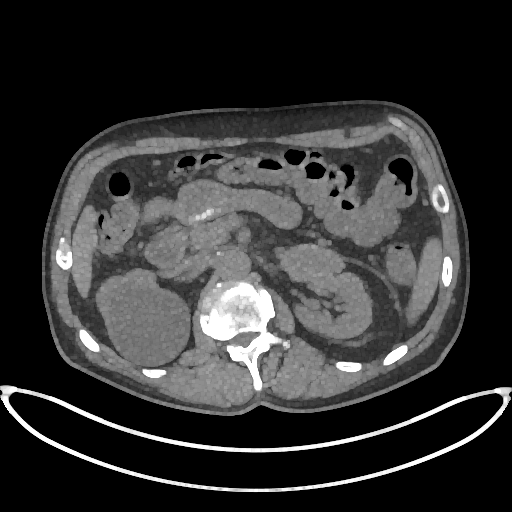Lesion: (276, 241, 351, 288)
